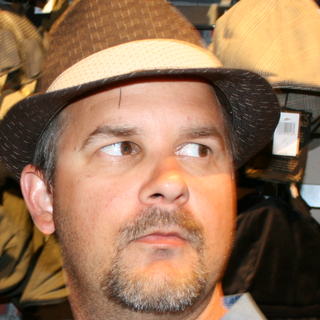eye: (171, 136, 216, 161), (96, 139, 146, 161)
